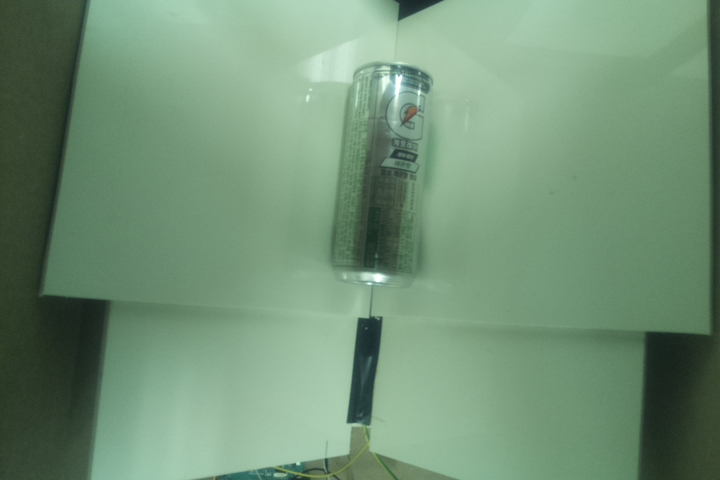can: (328, 60, 434, 291)
